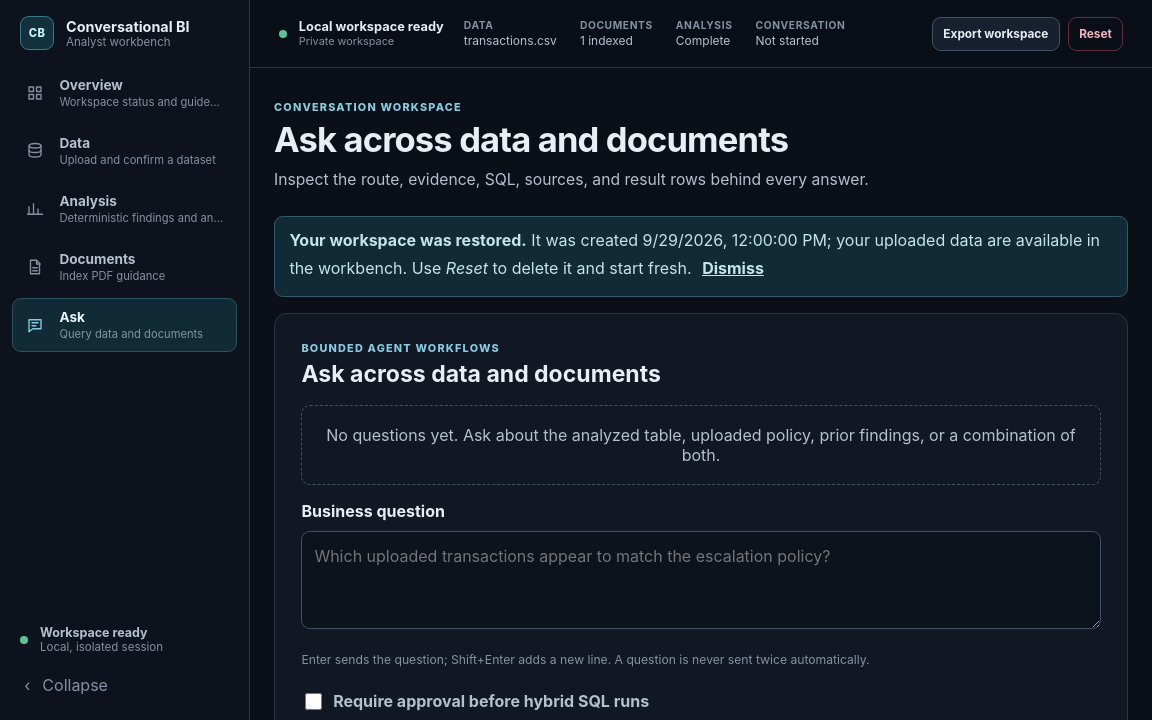
Test: asking a question › a failed conversation start means nothing was asked, so no server check is needed
The width and height of the screenshot is (1152, 720).
Type "What is the total revenue?" into the text box labelled "Business question" at [701, 580], box [301, 531, 1101, 629]
(page scrolled)
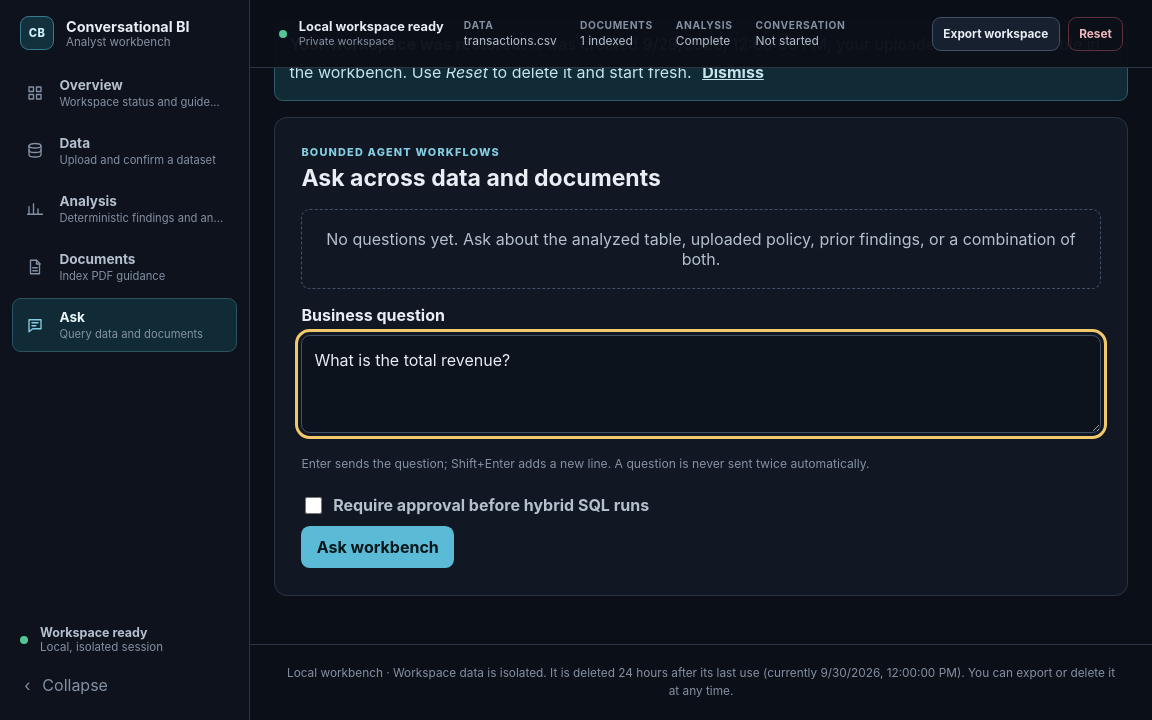
Click the button "Ask workbench" at [378, 548], box [301, 526, 454, 568]
(page scrolled)
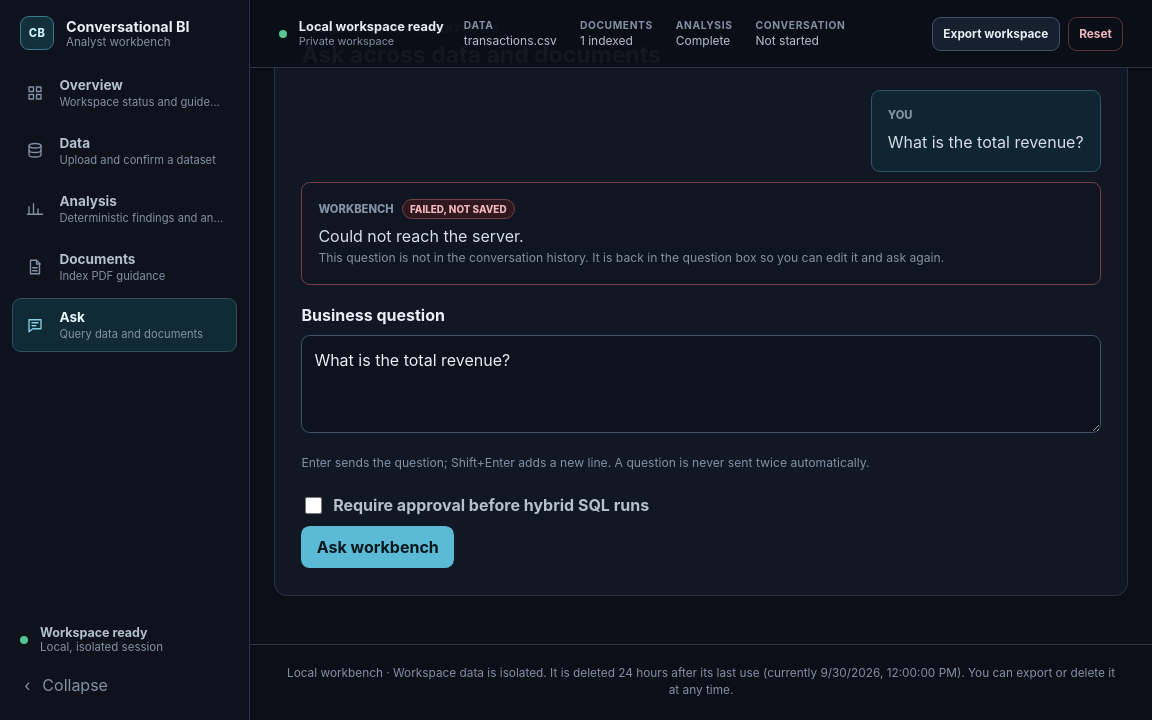
Expected: the text box labelled "Business question" is enabled, [301, 335, 1101, 433]
Expected: the element named "Question failed" is shown, [301, 182, 1101, 285]
